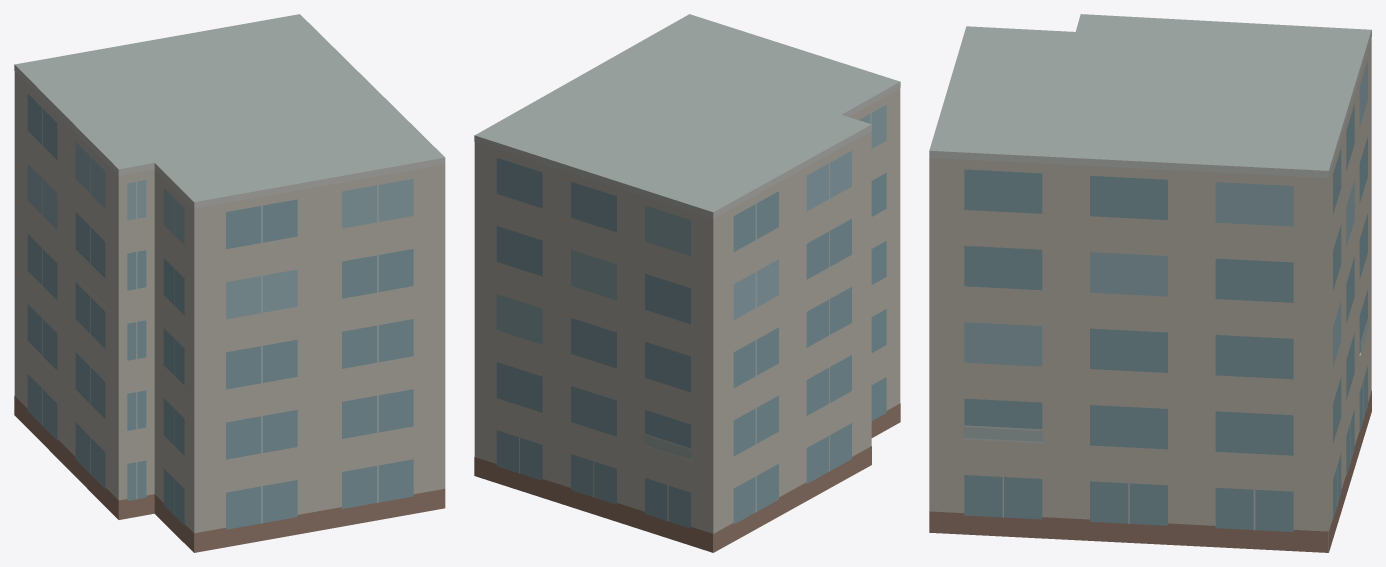
Rendered from survey-upis-33025299.glb.
The picture shows the model from 3 angles, left to right: view 1: azimuth 30°, elevation 25°; view 2: azimuth 150°, elevation 25°; view 3: azimuth 270°, elevation 25°; orthographic projection. The views are drawn at different scales.
Parts seen in each view (by area): view 1: survey-upis-33025299.tmp; view 2: survey-upis-33025299.tmp; view 3: survey-upis-33025299.tmp.
Part boxes in pixels (<box>): survey-upis-33025299.tmp: <box>14,14,445,552</box>; survey-upis-33025299.tmp: <box>474,14,900,552</box>; survey-upis-33025299.tmp: <box>929,14,1371,552</box>.
Bounding box in the file's own units: 11.46 × 13 × 13.66.
